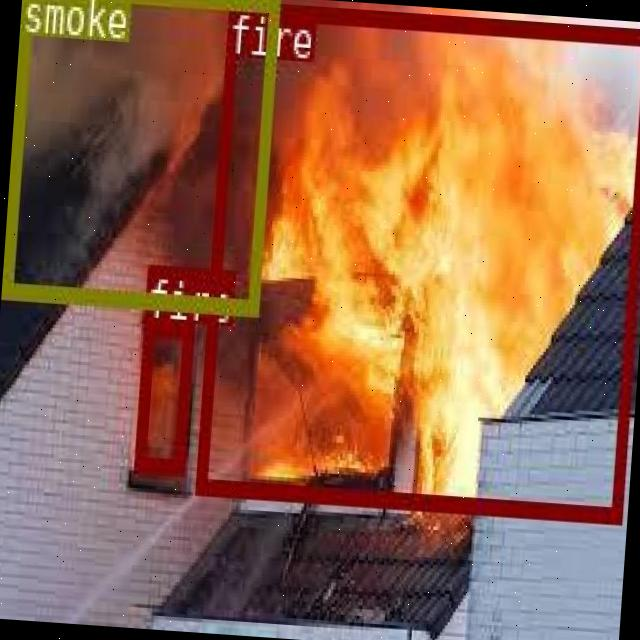fire: (194, 0, 640, 520), (132, 318, 190, 470)
smoke: (1, 0, 278, 310)
